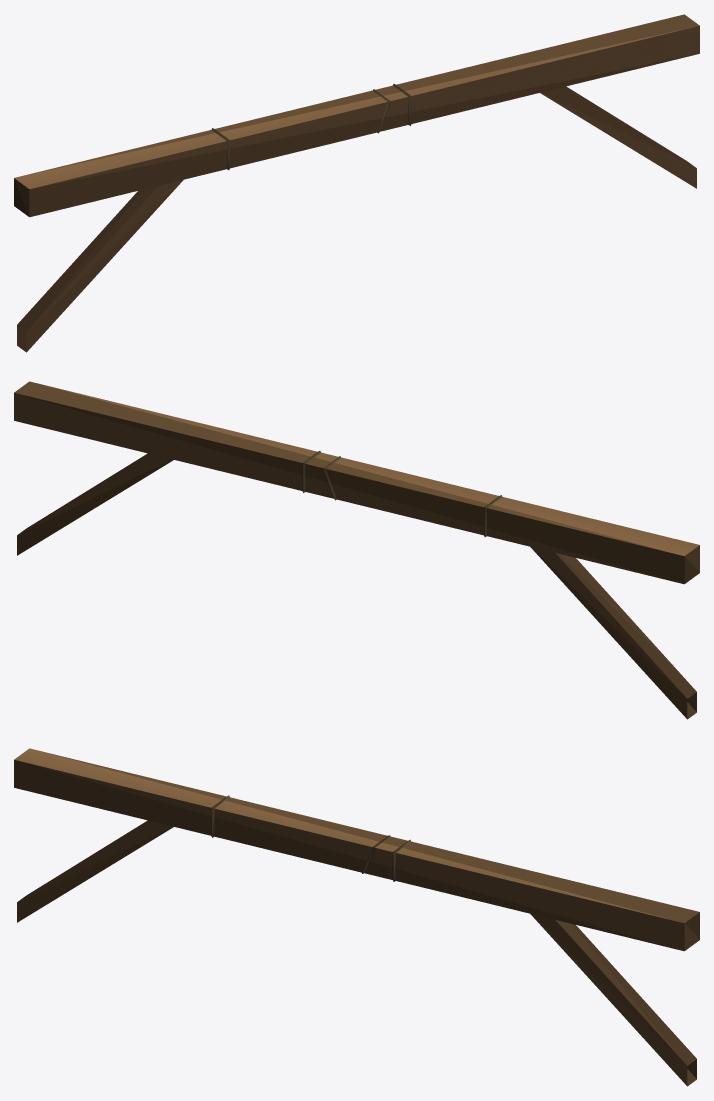
Rendered from Wood_4_Lod0.fbx.
3 renders of one model, top to bottom at view 1: azimuth 30°, elevation 25°; view 2: azimuth 150°, elevation 25°; view 3: azimuth 330°, elevation 25°, orthographic.
Visible parts, largest first — view 1: polySurface1092; view 2: polySurface1092; view 3: polySurface1092.
Part boxes in pixels (x1,y1,x2,y2): polySurface1092: (14, 14, 699, 352); polySurface1092: (14, 381, 699, 719); polySurface1092: (14, 748, 699, 1086).
Size of the model in its own units: 1000 by 237 by 43.25.
Materials: 1 (1 with a texture image).
